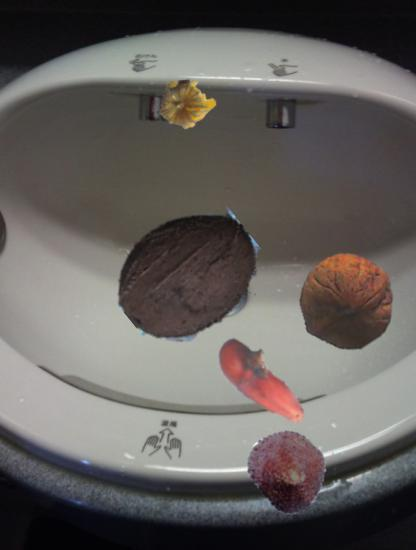Banana: (210, 324, 320, 434)
Cocos: (114, 201, 261, 348)
Physalis: (157, 74, 217, 134)
Salak: (248, 428, 331, 511)
Walnut: (297, 252, 397, 352)
